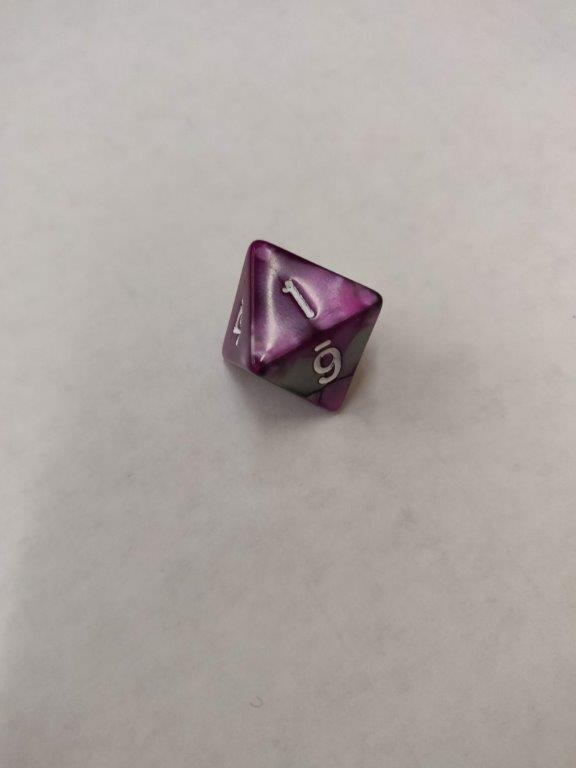d8-1: (216, 239, 384, 418)
